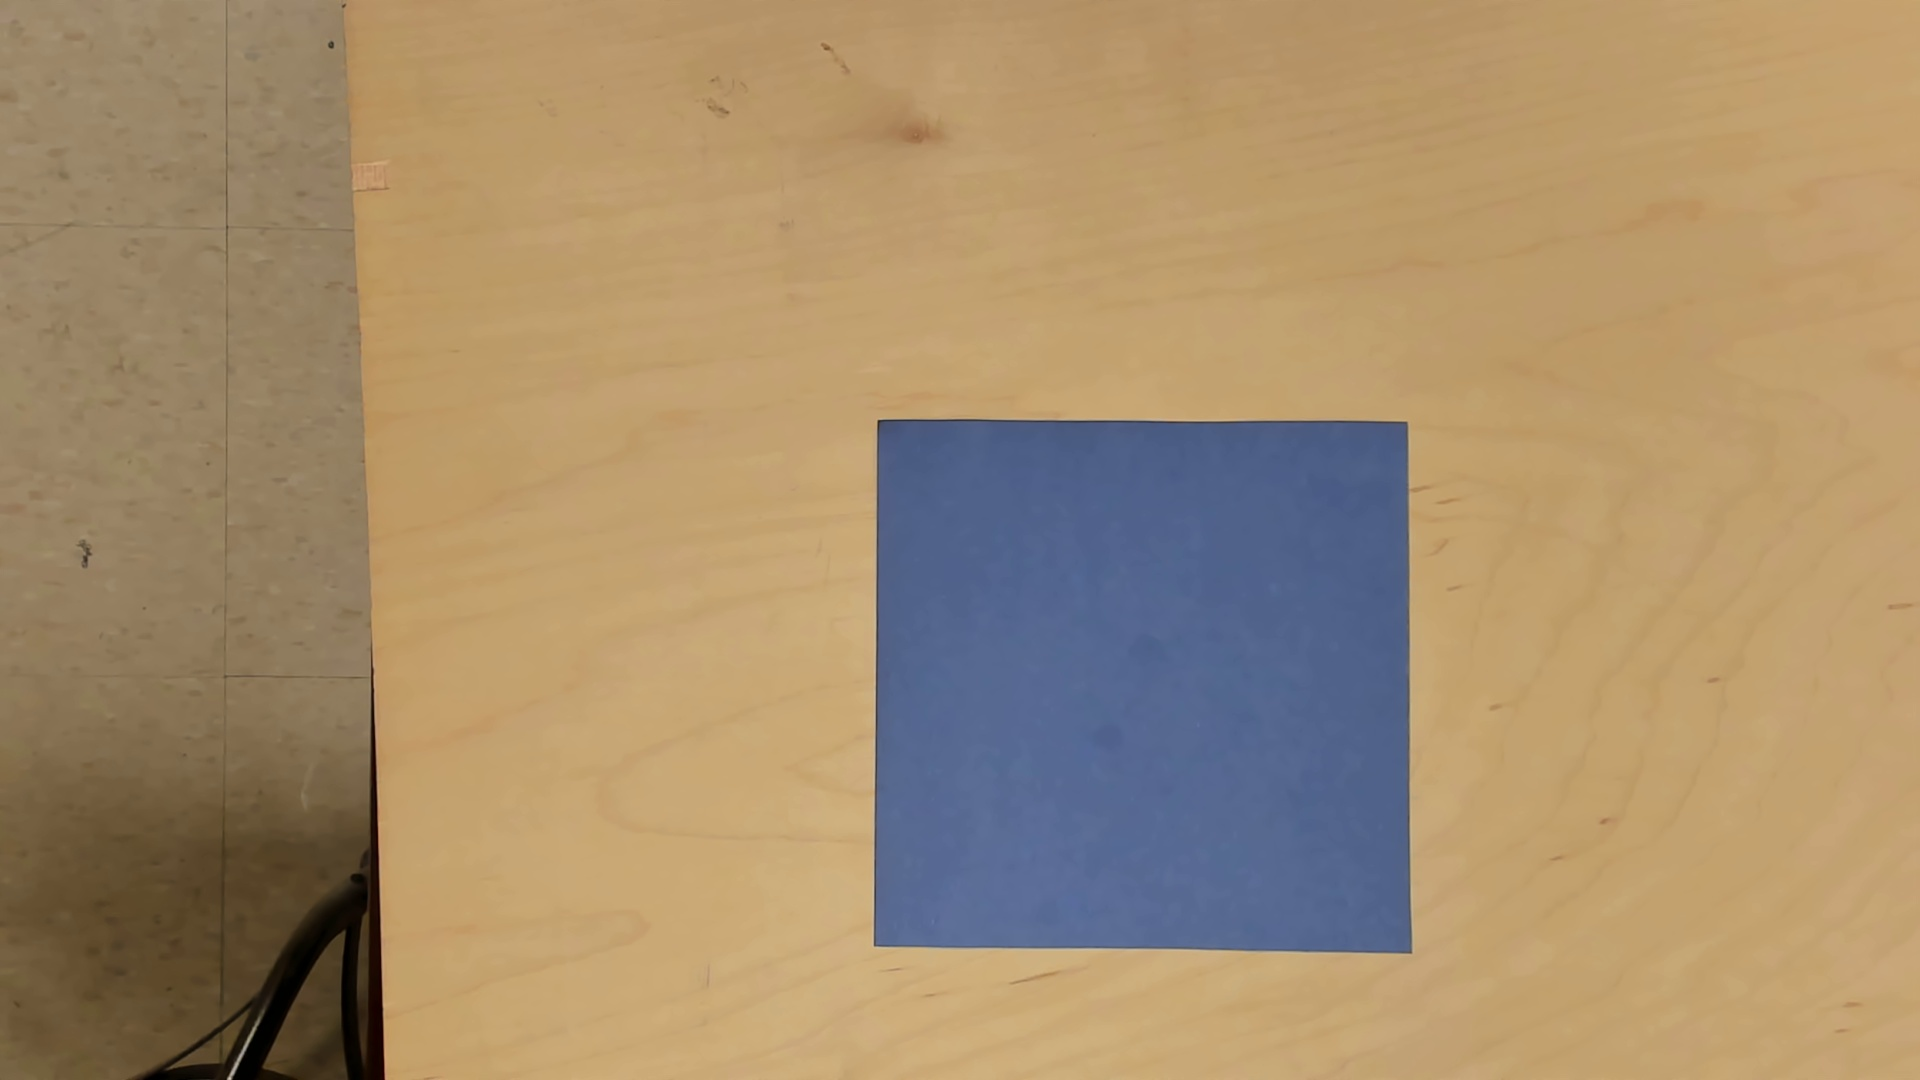BS: (869, 414, 1423, 963)
